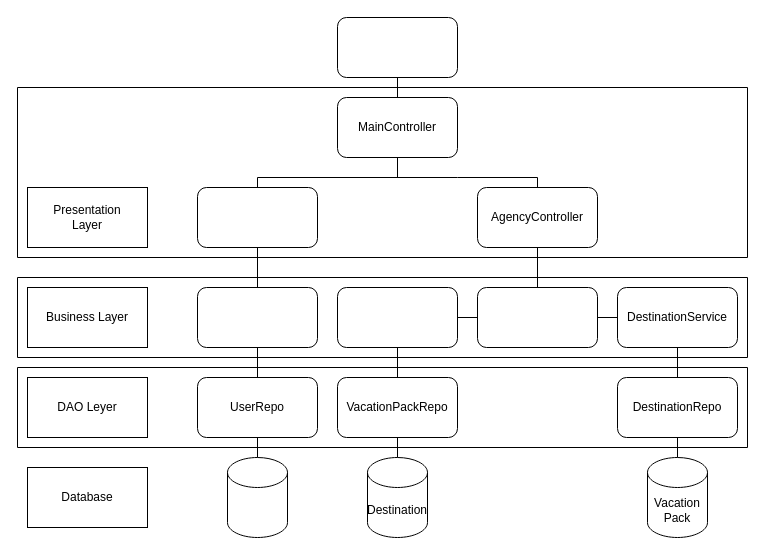
Image size: 765x555. Some labels were removed from this diagram. Here are the shapes that lost their labels. From the top down, the centre of each, then its label:
At pixel 397 47: "UserInterface".
At pixel 257 217: "UserController".
At pixel 257 317: "UserService".
At pixel 397 317: "VacationPackService".
At pixel 537 317: "AgencyService".
At pixel 257 497: "User".
